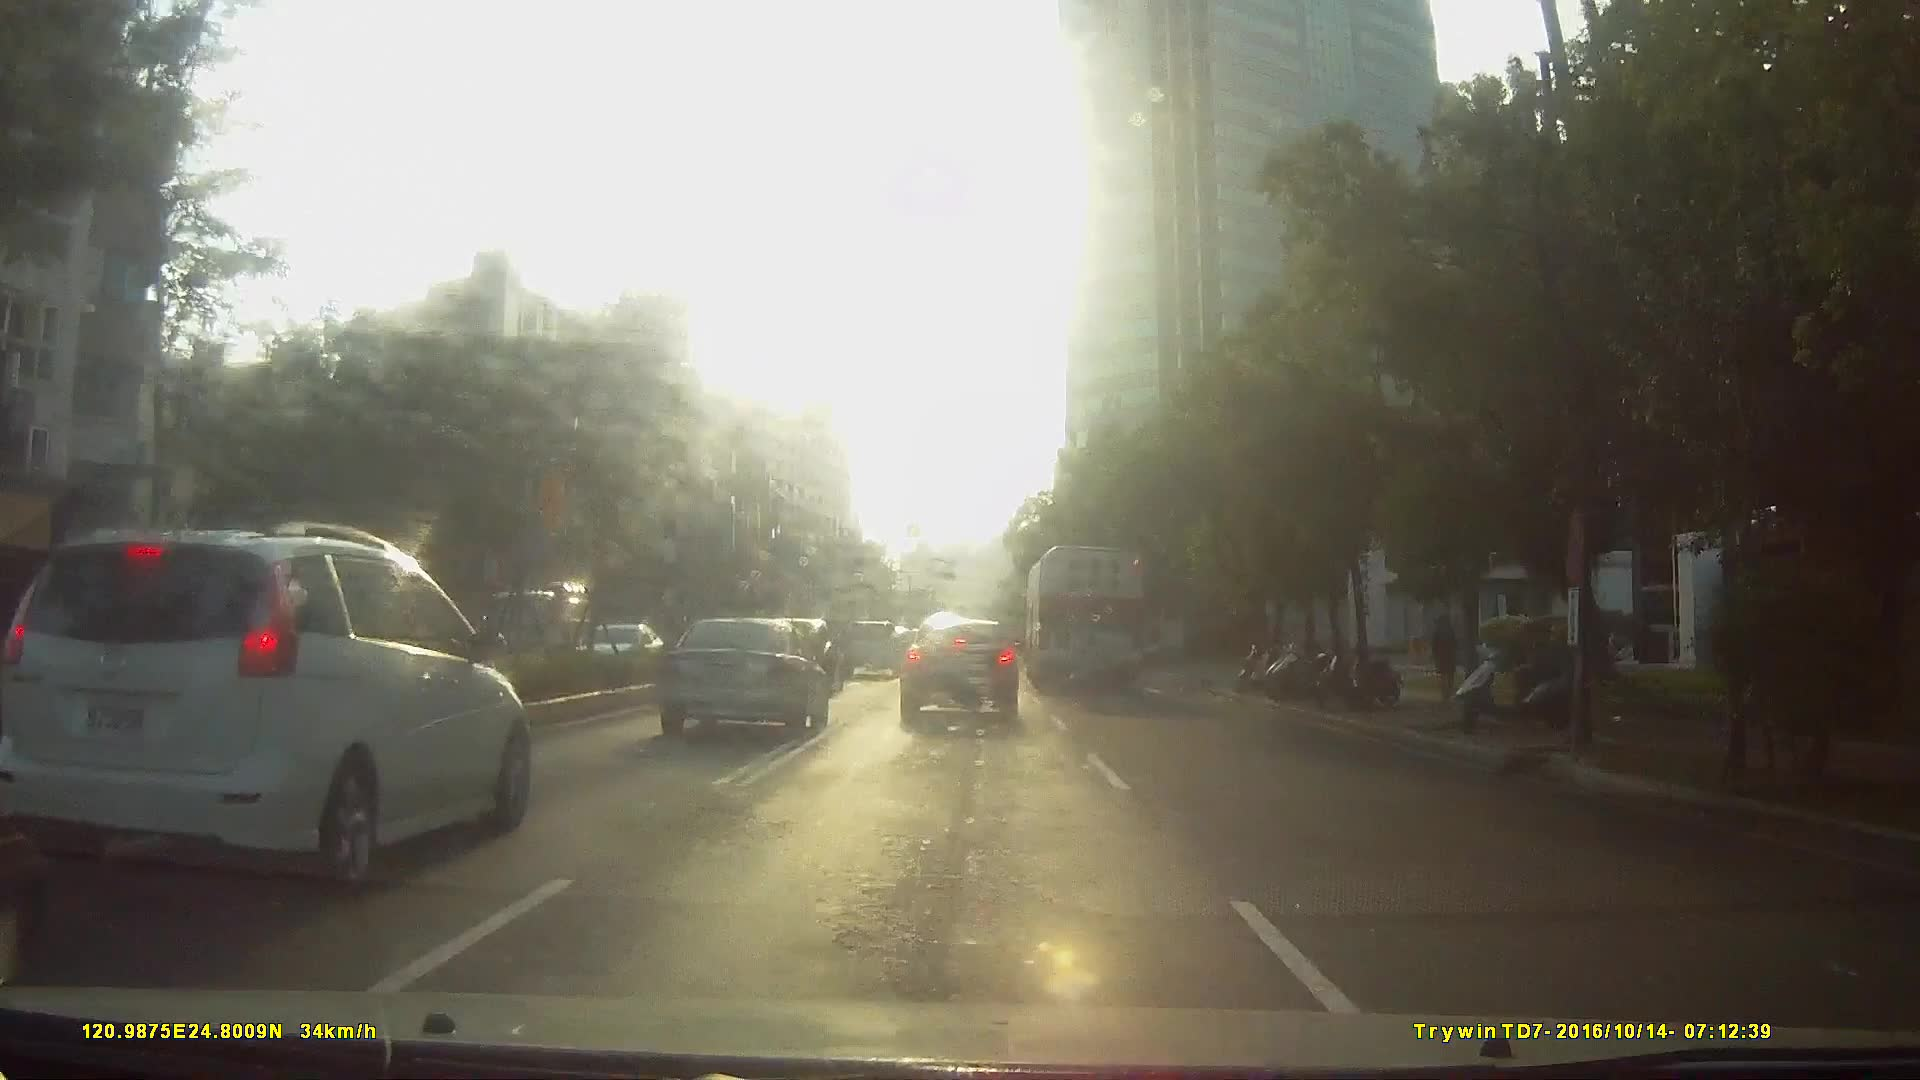pedestrian: (1428, 611, 1465, 707)
vehicle: (46, 502, 530, 906), (250, 556, 684, 868), (649, 611, 826, 739), (1022, 537, 1146, 692), (895, 615, 1022, 715), (485, 570, 584, 657), (836, 616, 901, 674)
